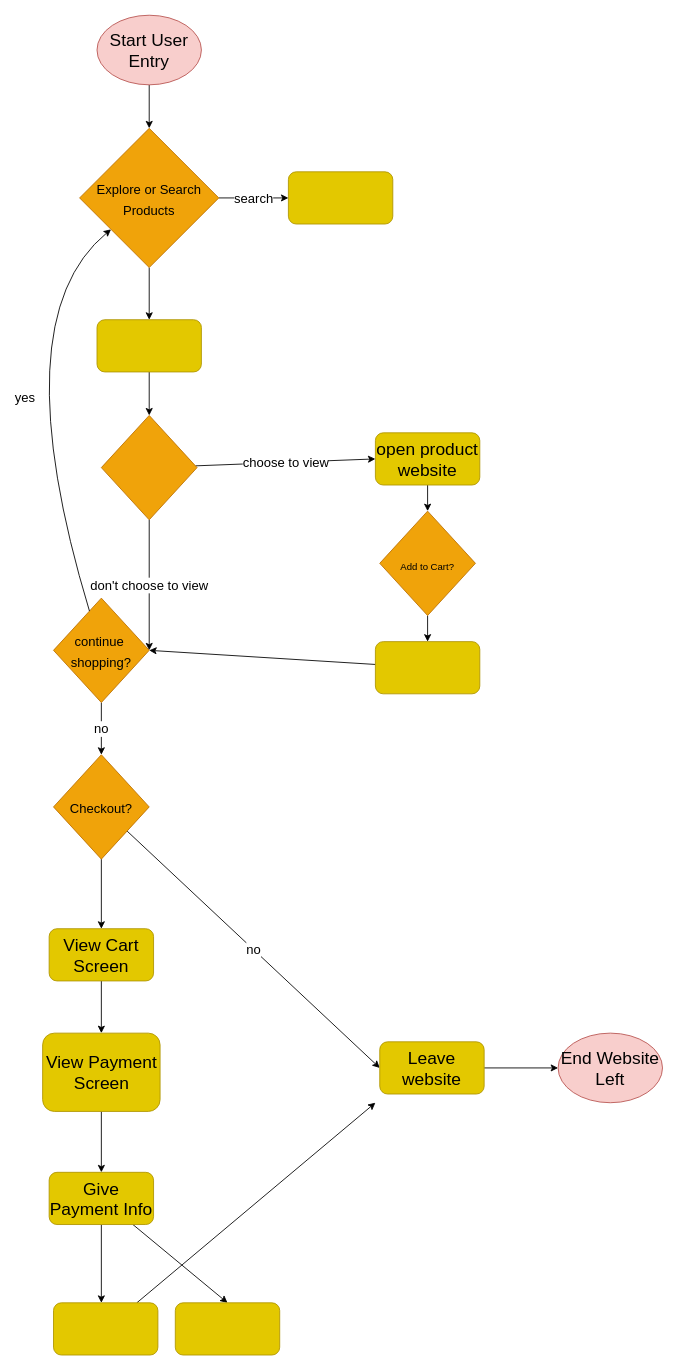
The diagram is 679 pixels wide and 1370 high, and some of its shapes have lost their labels. The shapes that lost their labels are listed below. From the top down, each one's centre as x and y in pixels, then its label:
At [340,197]: "input to website".
At [148,345]: "Look at products".
At [148,467]: "choose or dont choose item".
At [427,667]: "Added to cart".
At [105,1328]: "Order Confirmation".
At [227,1328]: "Email Confirmation".
